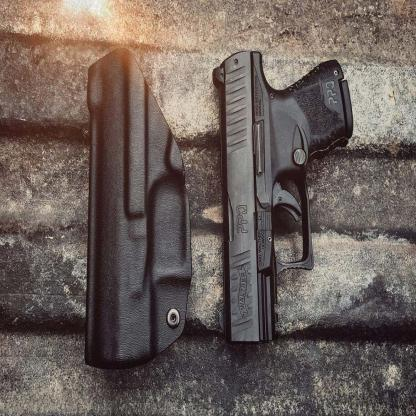Pistol: (206, 41, 358, 348)
